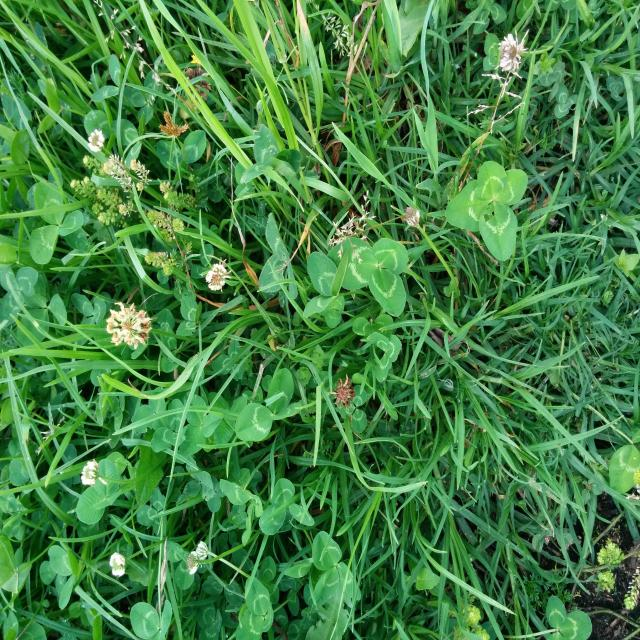Four Leaf Clover: (446, 161, 528, 261)
